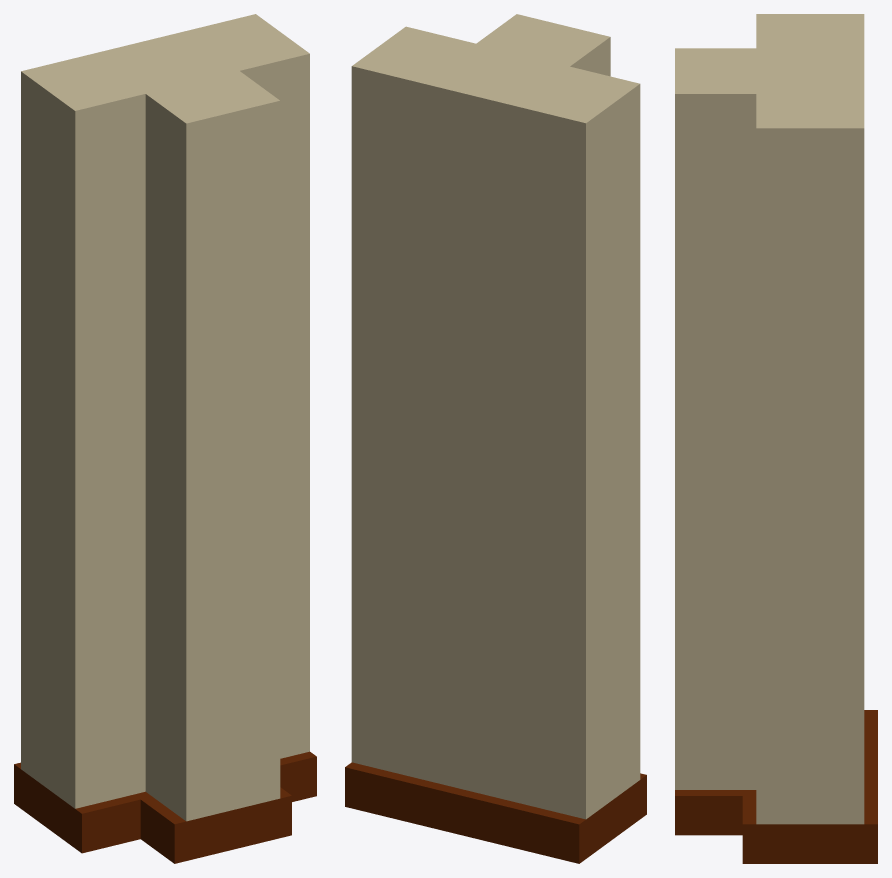
File: Mesh_Wall_T.fbx
3 renders of one model, left to right at view 1: azimuth 30°, elevation 25°; view 2: azimuth 150°, elevation 25°; view 3: azimuth 270°, elevation 25°, orthographic.
Visible parts, largest first — view 1: Wall_T; view 2: Wall_T; view 3: Wall_T.
Part boxes in pixels (bbox=[...]): Wall_T: bbox=[14, 14, 316, 863]; Wall_T: bbox=[345, 14, 646, 863]; Wall_T: bbox=[675, 14, 877, 863].
Size of the model in its own units: 20 by 60 by 15.
